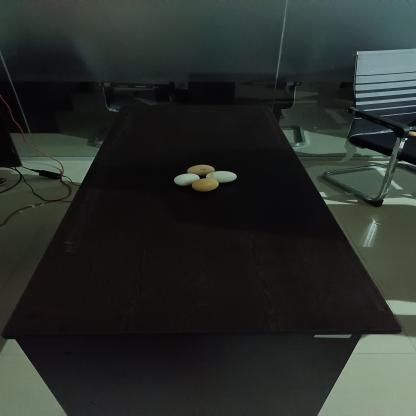egg: (192, 178, 223, 194), (204, 168, 238, 182), (172, 172, 200, 186), (188, 164, 216, 178)
